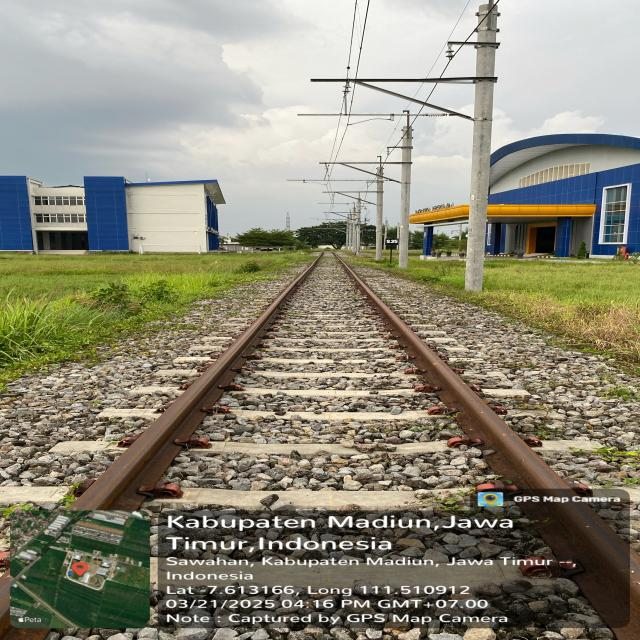rail-detection: (341, 260, 640, 640), (71, 258, 319, 510)
